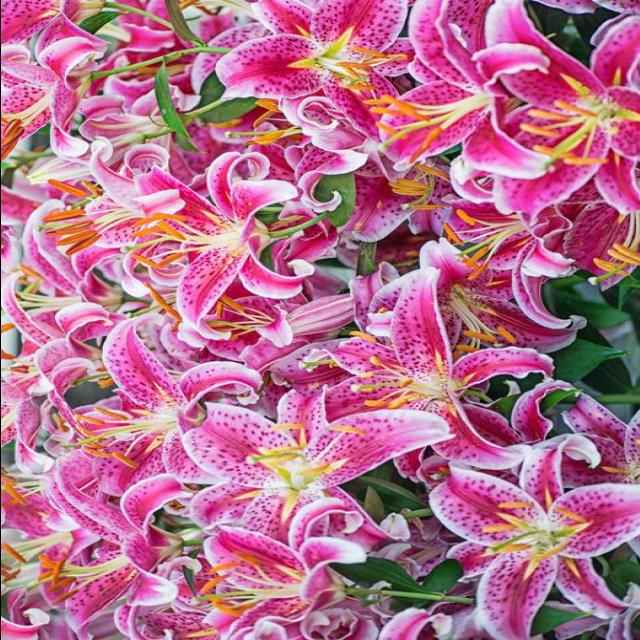lily: (416, 444, 636, 630)
